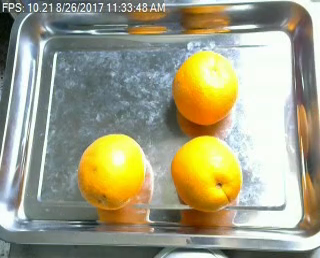Orange: (169, 135, 242, 212), (77, 132, 146, 210), (170, 48, 237, 125)
